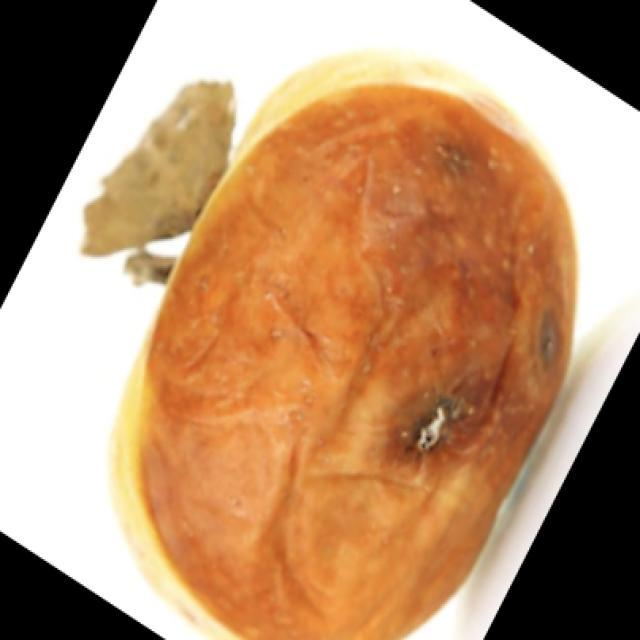Rotten: (93, 55, 585, 637)
